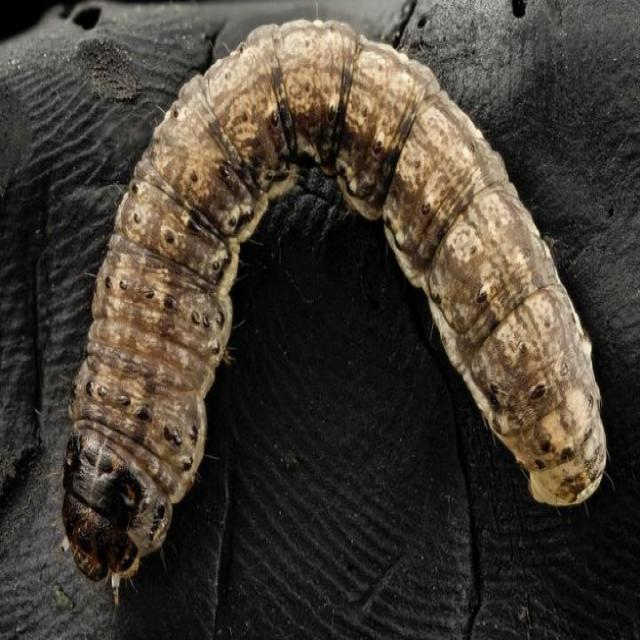Cutworm: (65, 18, 608, 581)
